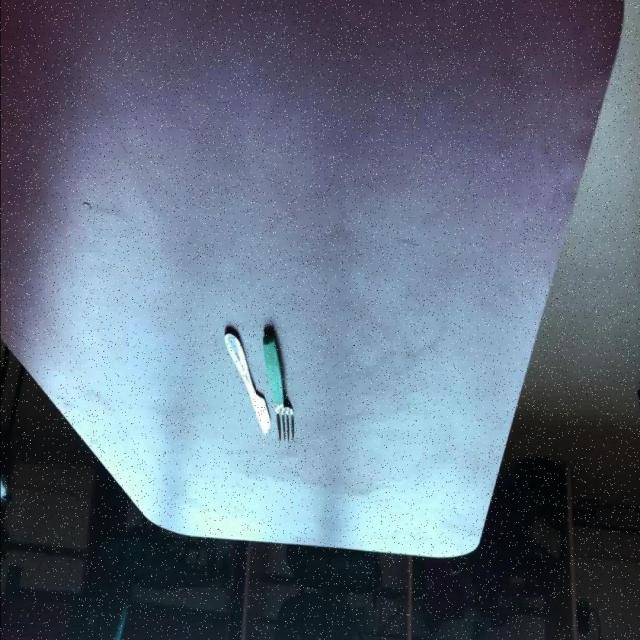Fork: (264, 328, 296, 442)
Knife: (223, 325, 272, 434)
